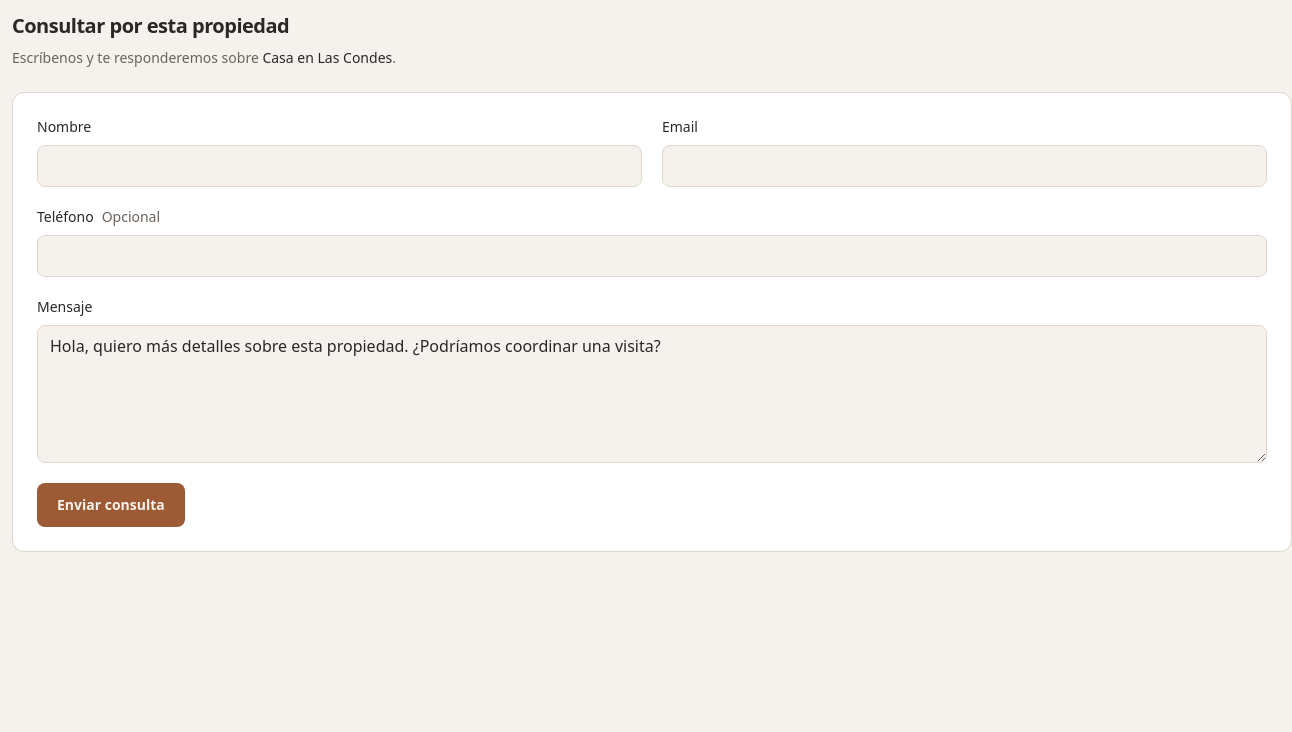
it: PropertyContactForm › no envía nada si faltan datos y explica qué corregir
Click the button "Enviar consulta": point(111, 505) [37,483,185,527]
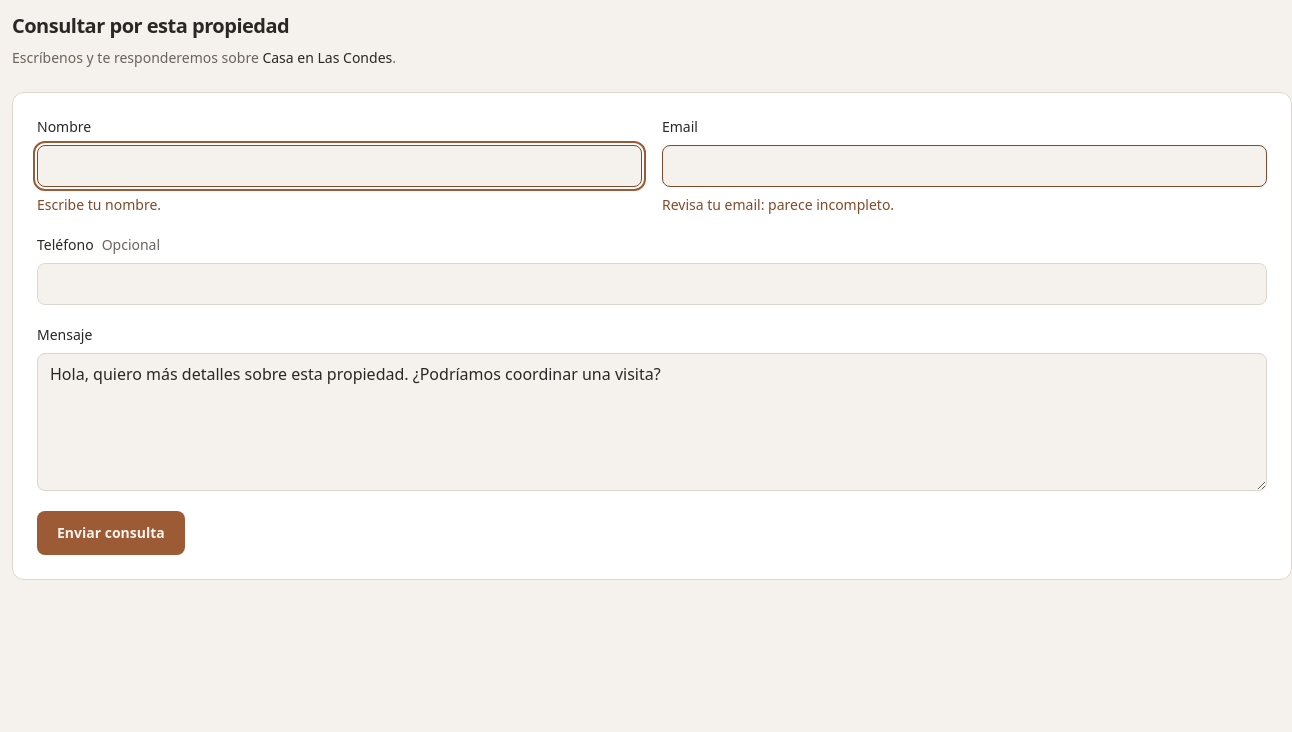
Check: the text "Escribe tu nombre." is shown, box [37,195,161,214]
